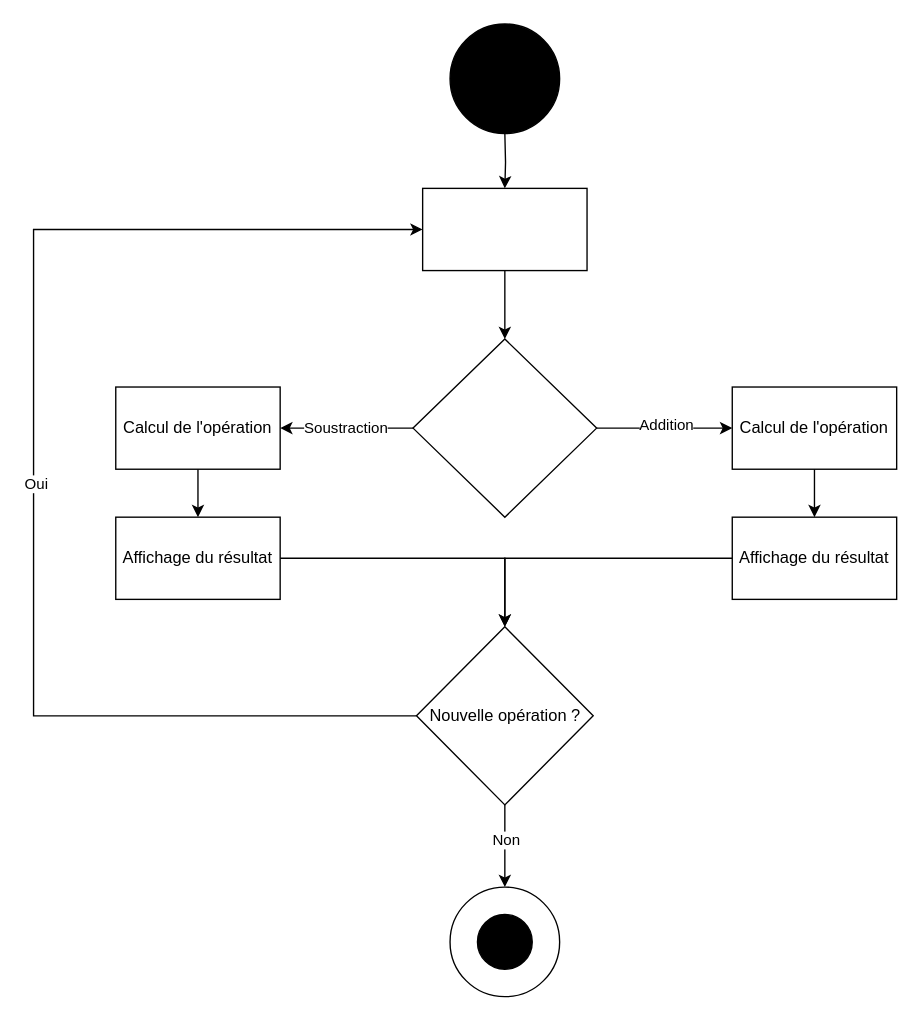
This 921x1021 diagram has some shape labels left out. Each missing label, with the box of its shape:
Entrer 2 nombres: (421, 187, 587, 271)
Opération choisi par utilisateur: (412, 338, 597, 517)
